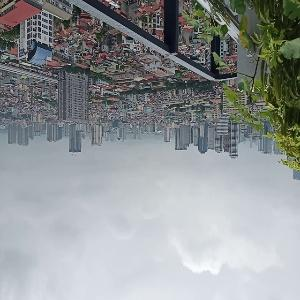drone: (253, 56, 280, 83)
